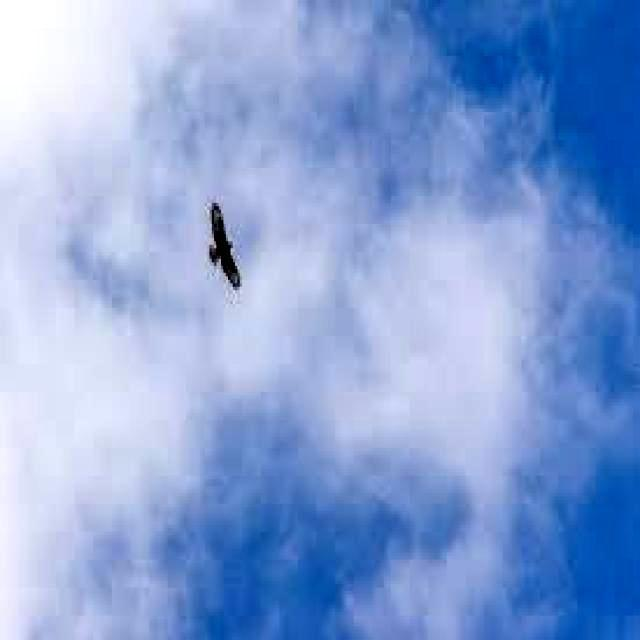bird: (200, 194, 247, 288)
